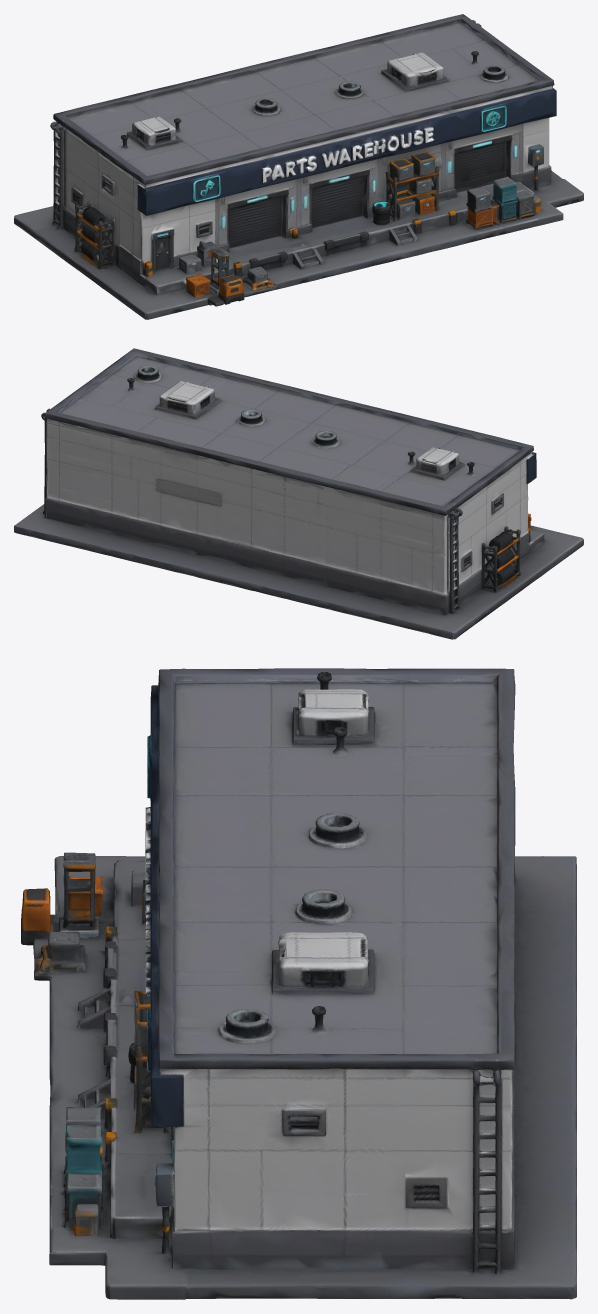
File: parts_warehouse_1k_real.glb
The picture shows the model from 3 angles, top to bottom: view 1: azimuth 30°, elevation 25°; view 2: azimuth 150°, elevation 25°; view 3: azimuth 270°, elevation 25°; orthographic projection. The views are drawn at different scales.
Parts seen in each view (by area): view 1: tripo_node_192a1393-9e34-457f-b3ef-84fdb5e5bf97; view 2: tripo_node_192a1393-9e34-457f-b3ef-84fdb5e5bf97; view 3: tripo_node_192a1393-9e34-457f-b3ef-84fdb5e5bf97.
Part boxes in pixels (left/top/right/bottom): tripo_node_192a1393-9e34-457f-b3ef-84fdb5e5bf97: left=14, top=14, right=583, bottom=319; tripo_node_192a1393-9e34-457f-b3ef-84fdb5e5bf97: left=14, top=348, right=583, bottom=639; tripo_node_192a1393-9e34-457f-b3ef-84fdb5e5bf97: left=21, top=668, right=576, bottom=1299.
Bounding box in the file's own units: 1 × 0.2639 × 0.5449.
Materials: 1 (1 with a texture image).
